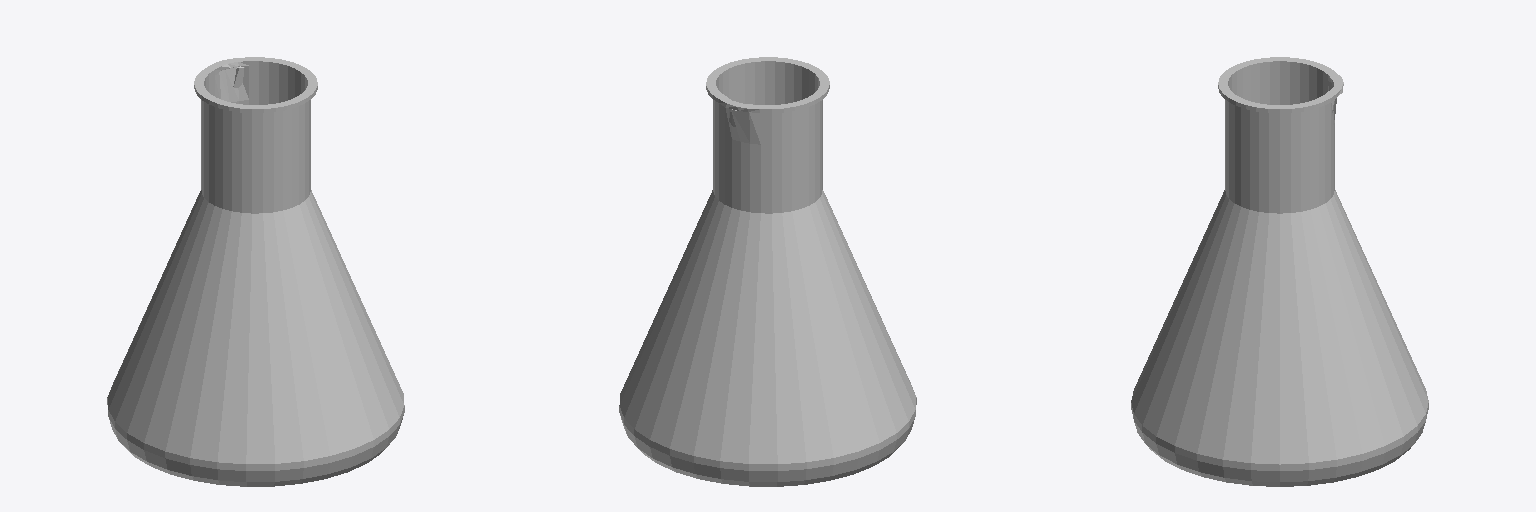
Rendered from Erlenmeyer.obj.
3 views of the same model, side by side, from view 1: azimuth 30°, elevation 25°; view 2: azimuth 150°, elevation 25°; view 3: azimuth 270°, elevation 25° (orthographic).
Visible parts, largest first — view 1: Erlenmeyer1_Circle; view 2: Erlenmeyer1_Circle; view 3: Erlenmeyer1_Circle.
Part boxes in pixels (bbox=[...]): Erlenmeyer1_Circle: bbox=[107, 57, 404, 486]; Erlenmeyer1_Circle: bbox=[619, 57, 916, 486]; Erlenmeyer1_Circle: bbox=[1131, 57, 1428, 486].
Bounding box in the file's own units: 2.26 × 2.9 × 2.26.